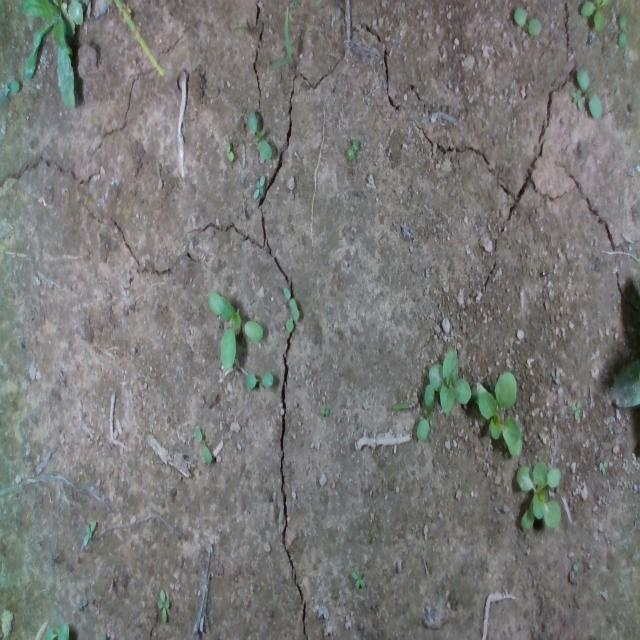weed: (244, 367, 284, 404), (575, 68, 603, 118), (312, 396, 344, 424), (513, 5, 541, 36), (192, 428, 214, 466), (78, 516, 100, 546), (152, 586, 174, 615), (344, 137, 364, 163), (253, 176, 271, 204), (616, 13, 628, 46), (350, 566, 366, 588), (570, 88, 584, 111), (223, 140, 236, 161)
